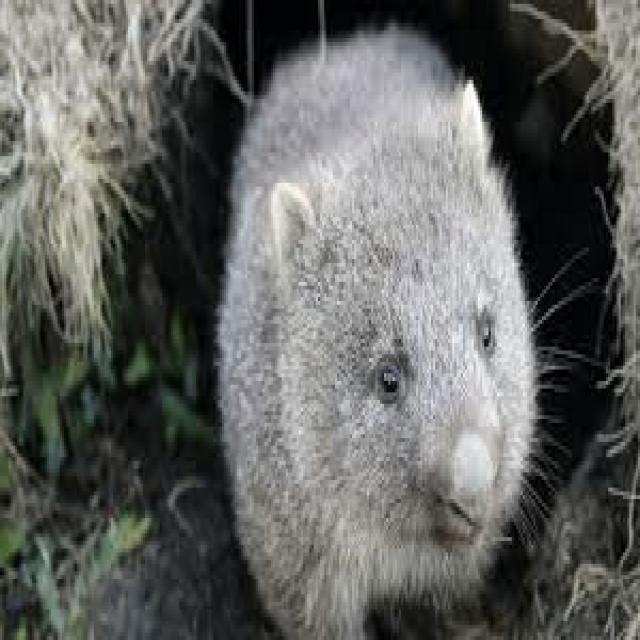wombats: (218, 27, 535, 636)
